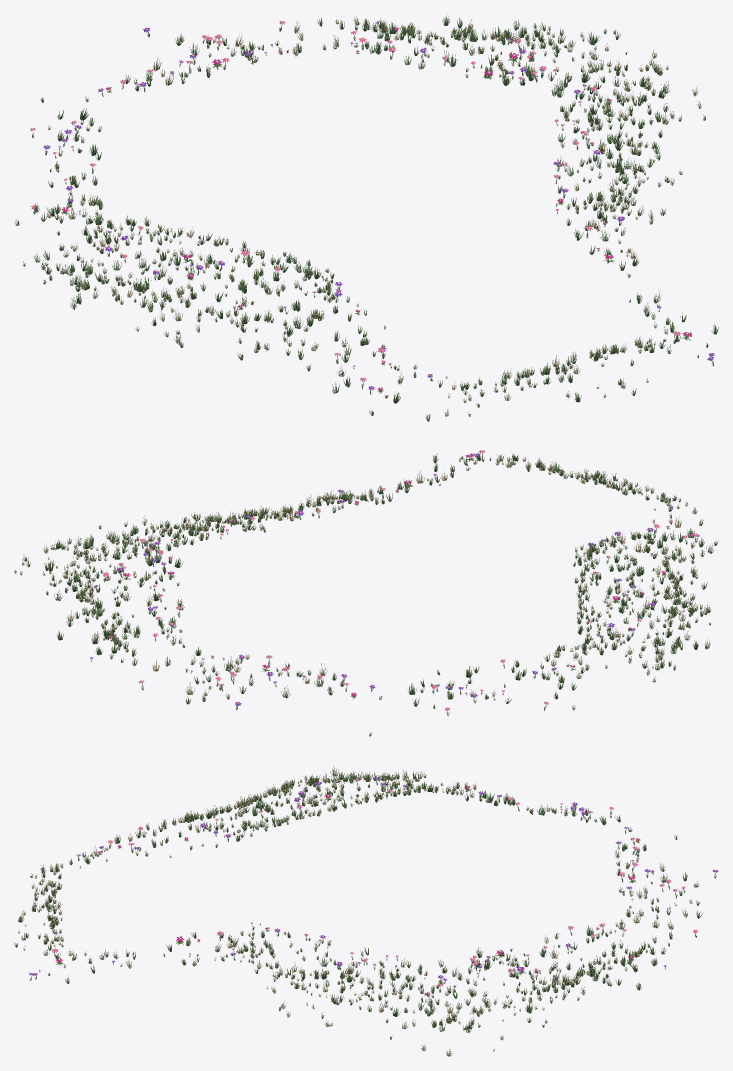
The model's file is flowers.glb.
3 views of the same model, one above another, from view 1: azimuth 30°, elevation 25°; view 2: azimuth 150°, elevation 25°; view 3: azimuth 270°, elevation 25° (orthographic). The views are drawn at different scales.
Bounding box in the file's own units: 32.15 × 3.43 × 34.47.
1 material, 1 textured.
